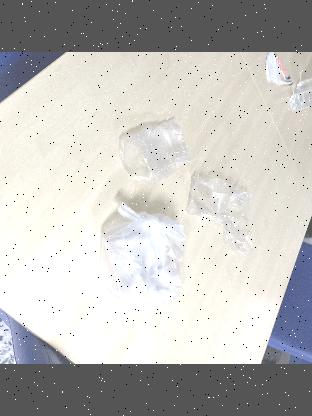Others: (84, 204, 192, 314), (182, 174, 262, 260), (112, 112, 194, 184), (261, 52, 291, 90)
Plastic Bottle: (284, 78, 312, 107)
